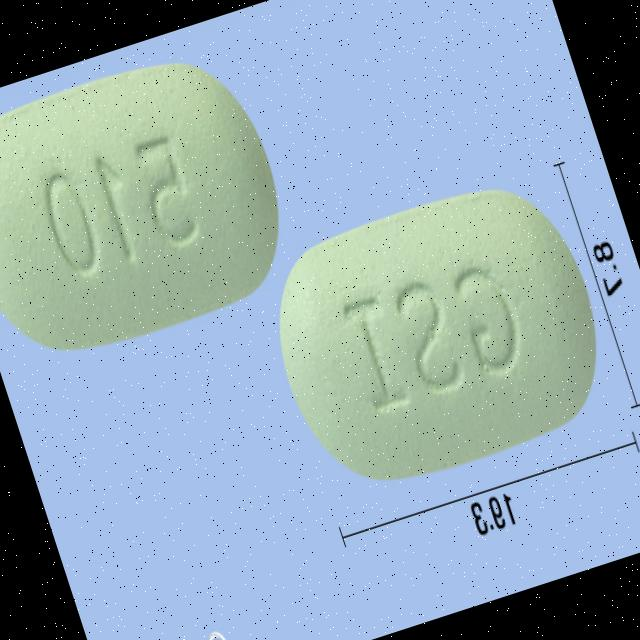Genvoya: (248, 162, 629, 510), (0, 36, 309, 377)
